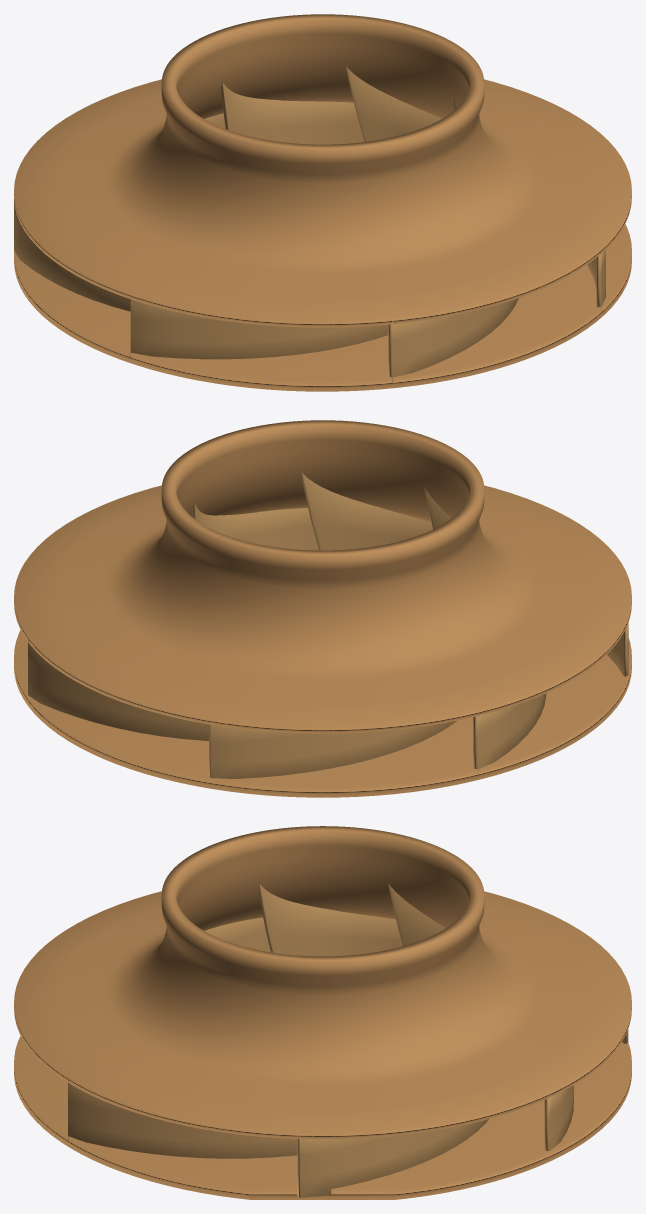
Rendered from centrifugal_impeller.light.glb.
3 views of the same model, one above another, from view 1: azimuth 30°, elevation 25°; view 2: azimuth 150°, elevation 25°; view 3: azimuth 270°, elevation 25° (orthographic).
Visible parts, largest first — view 1: front_shroud, hub_back_shroud, blade_7, blade_3, blade_1, blade_2, blade_6; view 2: front_shroud, hub_back_shroud, blade_5, blade_7, blade_4, blade_1, blade_6; view 3: front_shroud, hub_back_shroud, blade_2, blade_3, blade_5, blade_4, blade_6.
Boxes of the visible parts, x1,y1,x2,y2 form: front_shroud: (14, 14, 631, 327); hub_back_shroud: (14, 224, 631, 391); blade_7: (130, 296, 387, 359); blade_3: (221, 82, 364, 144); blade_1: (388, 96, 518, 382); blade_2: (345, 66, 605, 311); blade_6: (14, 199, 130, 311); front_shroud: (14, 420, 631, 733); hub_back_shroud: (14, 630, 631, 797); blade_5: (209, 721, 456, 778); blade_7: (301, 472, 628, 676); blade_4: (28, 638, 208, 740); blade_1: (192, 502, 318, 550); blade_6: (424, 488, 546, 774); front_shroud: (14, 826, 631, 1139); hub_back_shroud: (14, 1036, 631, 1199); blade_2: (68, 1079, 297, 1158); blade_3: (297, 1119, 488, 1197); blade_5: (258, 883, 628, 1043); blade_4: (388, 883, 573, 1150); blade_6: (205, 917, 270, 952).
Size of the model in its own units: 0.42 by 0.166 by 0.42.
